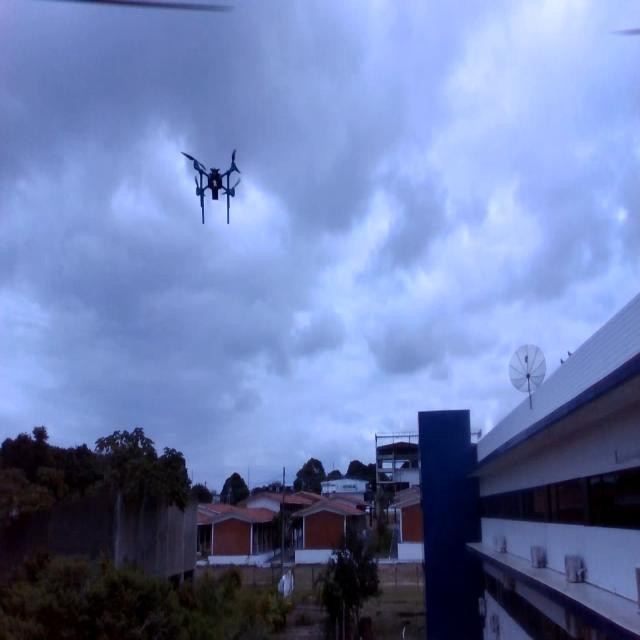-uav-: (176, 141, 252, 228)
